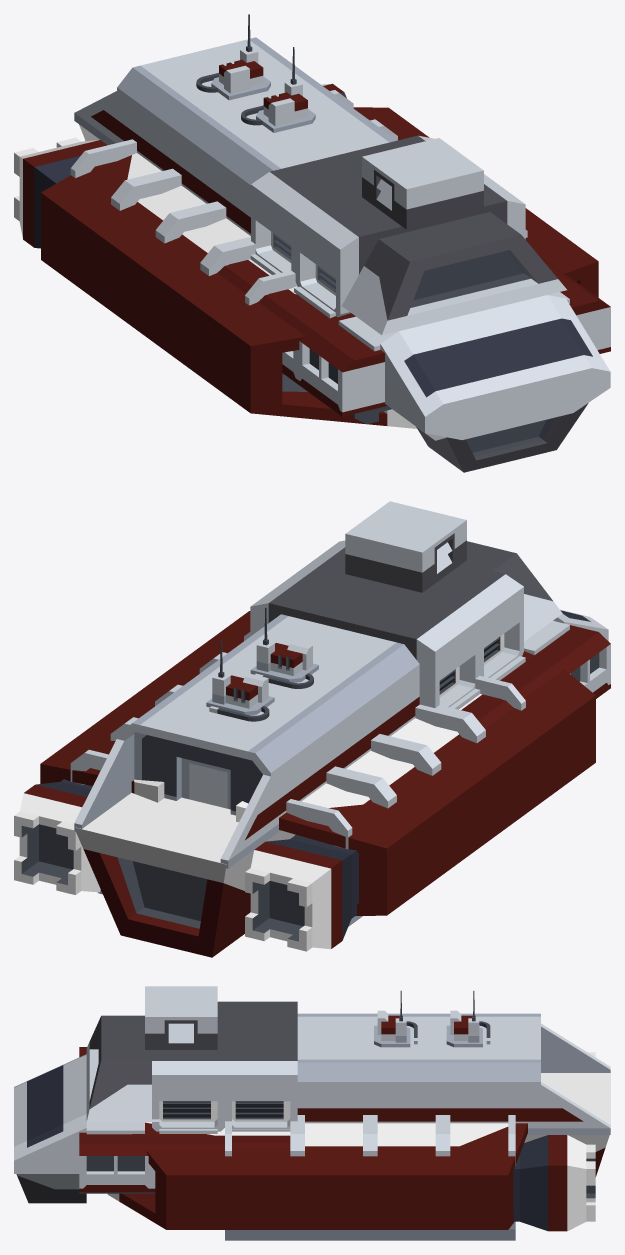
The model's file is cargo_moyen_4.glb.
The picture shows the model from 3 angles, top to bottom: view 1: azimuth 30°, elevation 25°; view 2: azimuth 150°, elevation 25°; view 3: azimuth 270°, elevation 25°; orthographic projection. The views are drawn at different scales.
Visible parts, largest first — view 1: mergedBlocks(Clone); view 2: mergedBlocks(Clone); view 3: mergedBlocks(Clone).
Part boxes in pixels (left/top/right/bottom): mergedBlocks(Clone): left=14, top=14, right=610, bottom=472; mergedBlocks(Clone): left=14, top=501, right=610, bottom=957; mergedBlocks(Clone): left=14, top=986, right=610, bottom=1240.
Size of the model in its own units: 4.5 by 3.2 by 8.21.
1 material, 1 textured.
